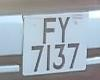1: (44, 44, 54, 74)
3: (51, 43, 68, 73)
7: (28, 44, 46, 74), (65, 42, 82, 71)
F: (40, 14, 58, 46)
Y: (55, 14, 73, 46)
